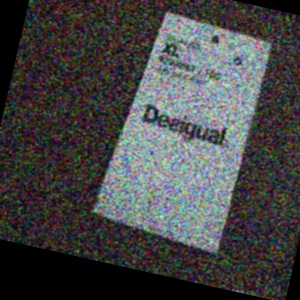desigual: (157, 46, 300, 182)
